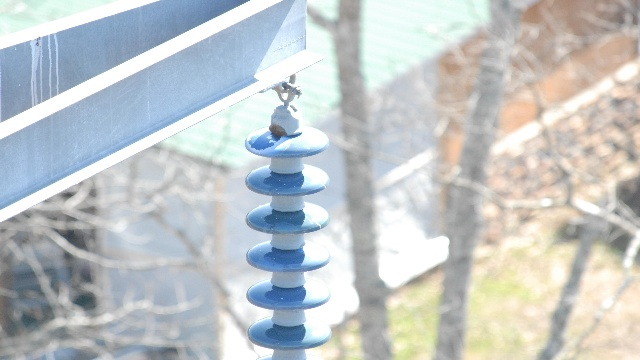insulator_unspecified: (244, 125, 331, 351)
pollution_flashover_local: (243, 127, 290, 153)
